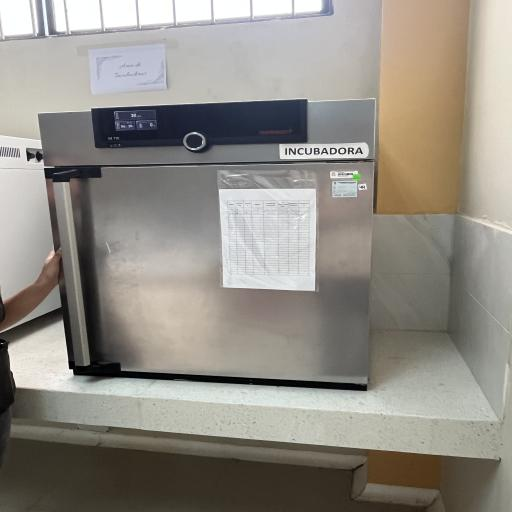Incubadora: (27, 100, 395, 398)
